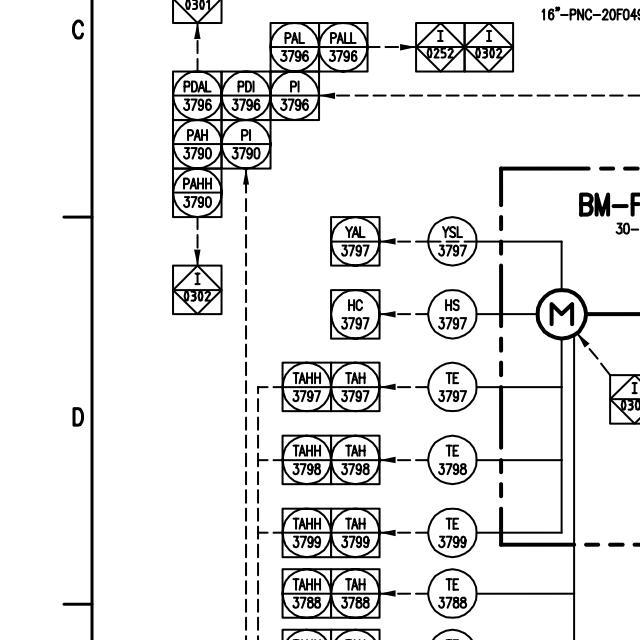M: (535, 282, 588, 343)
